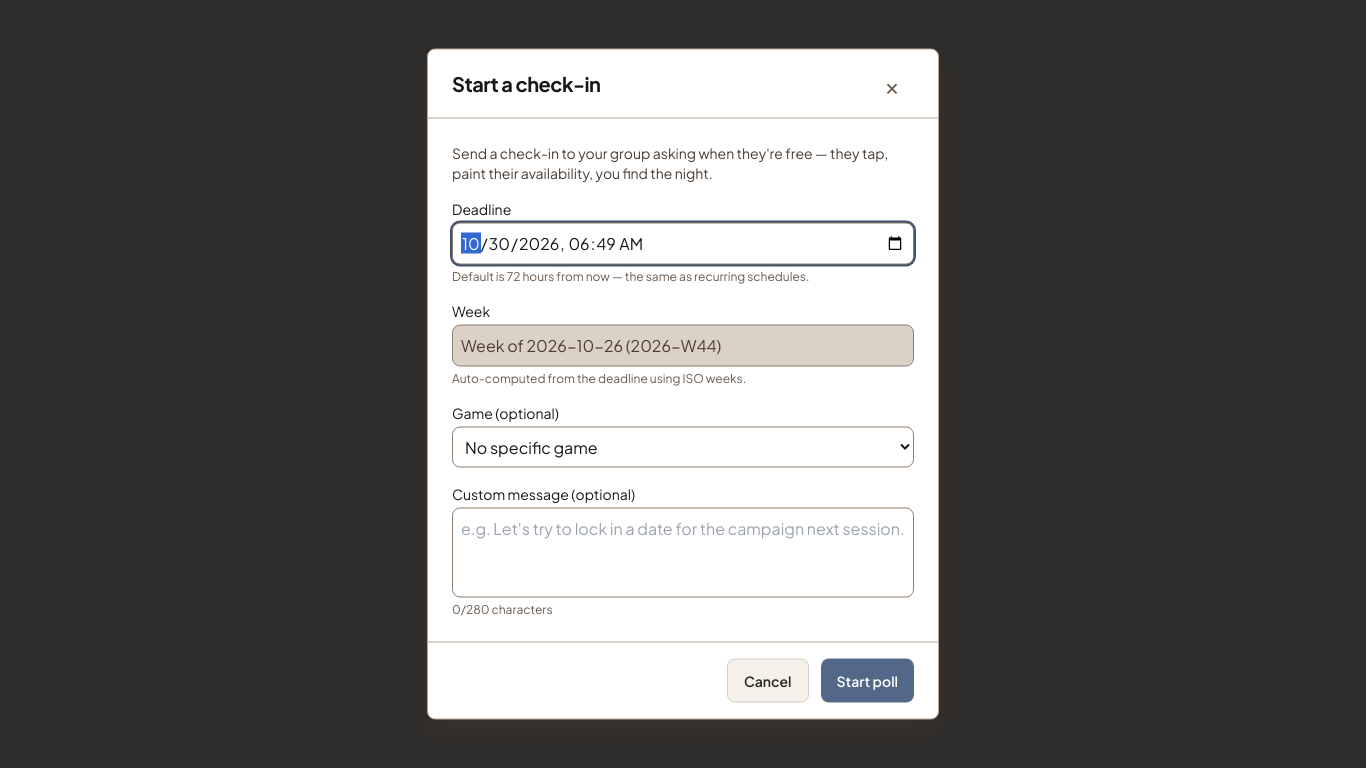
StartPollModal — error copy is keyed on the status, not the prose (88.6-22) › renders the forbidden copy for a 403, from the code and not the message
The width and height of the screenshot is (1366, 768).
Click the button "Start poll" at (867, 680), box x1=820 y1=658 x2=914 y2=702
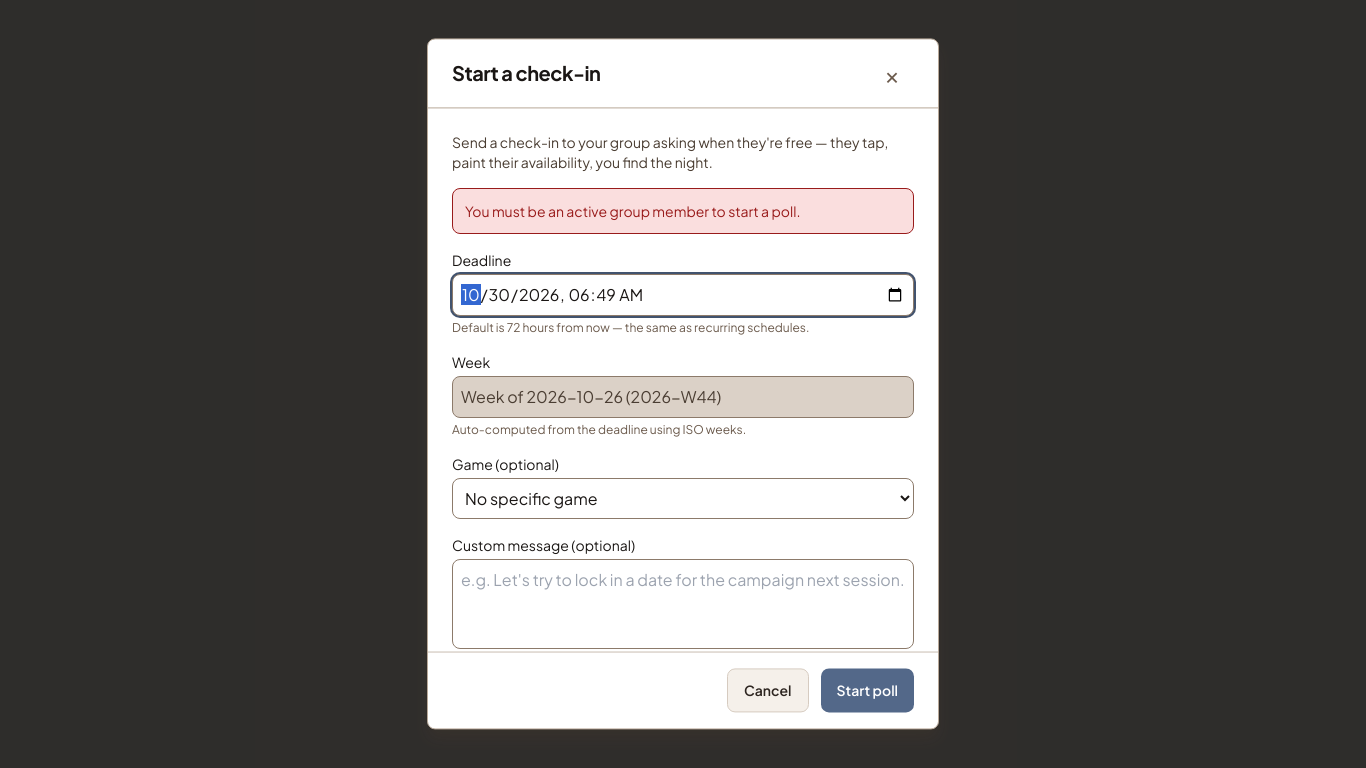
Expected: the text "You must be an active group member to start a poll." is shown, x1=465 y1=202 x2=800 y2=220
